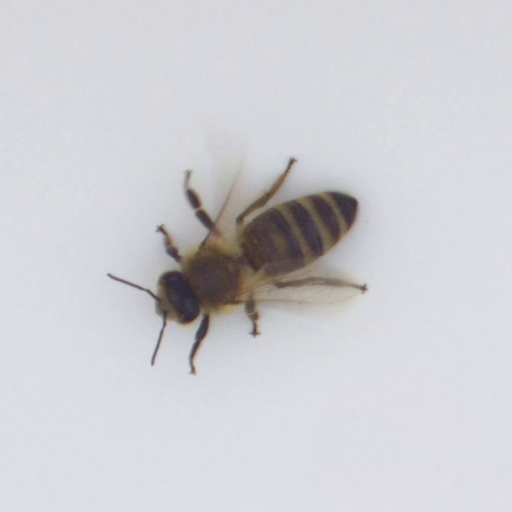Bee: (133, 165, 379, 340)
Thorax: (186, 246, 243, 306)
